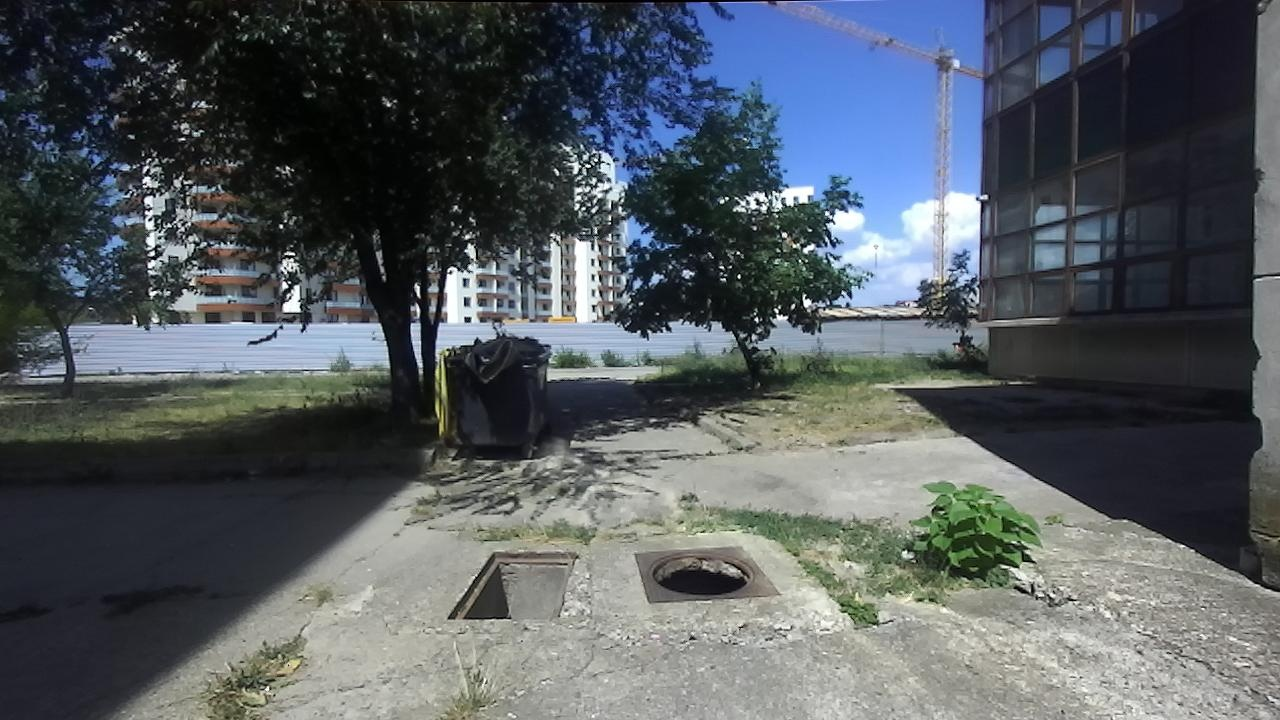drain: (445, 544, 581, 625), (645, 549, 755, 597)
